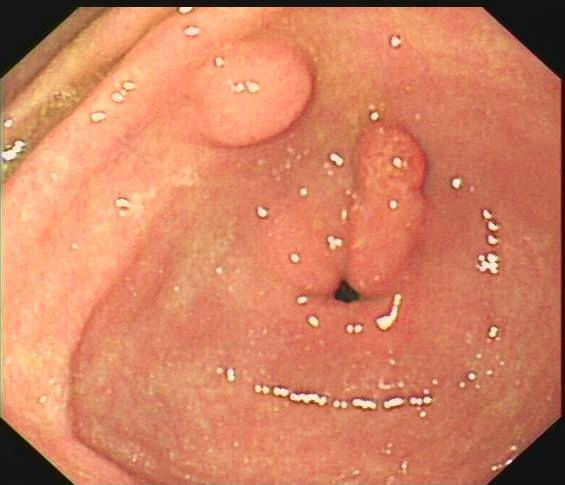Polyp: (185, 46, 321, 151), (344, 113, 426, 198)
